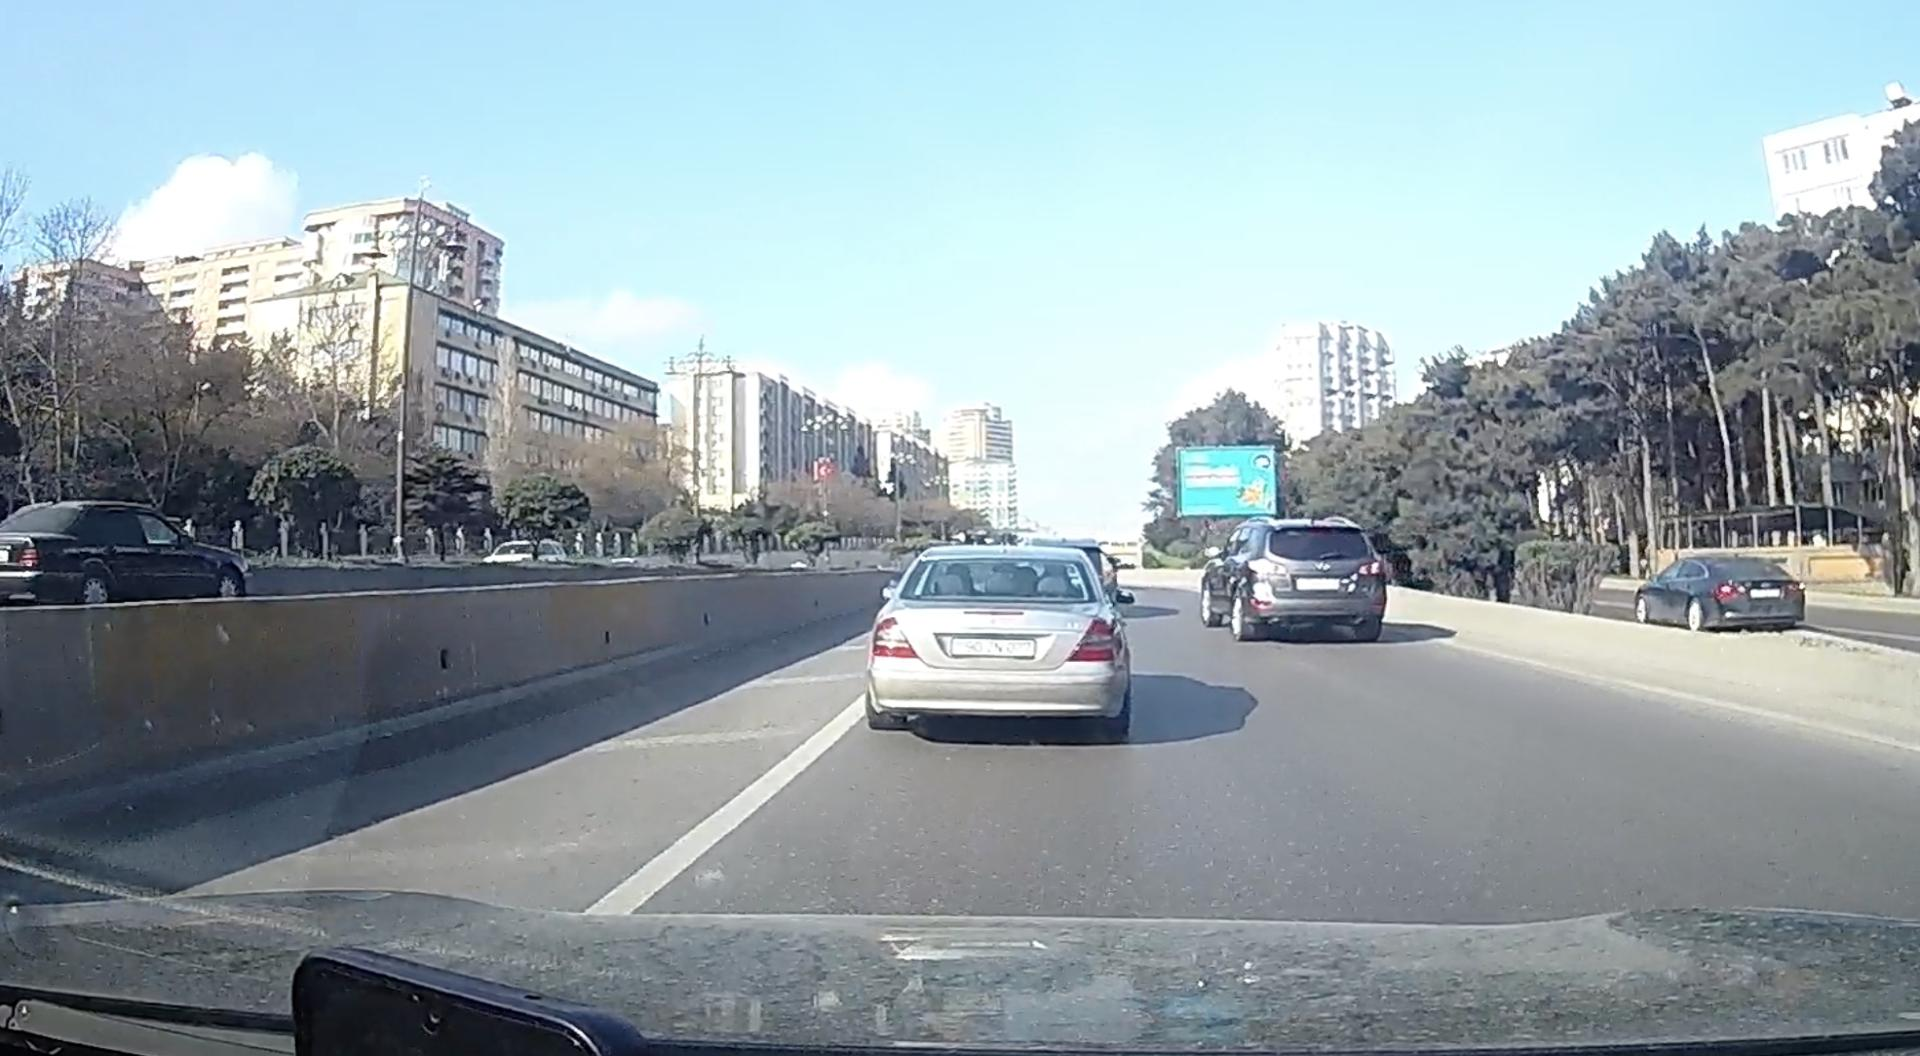banner: (1177, 444, 1281, 518)
